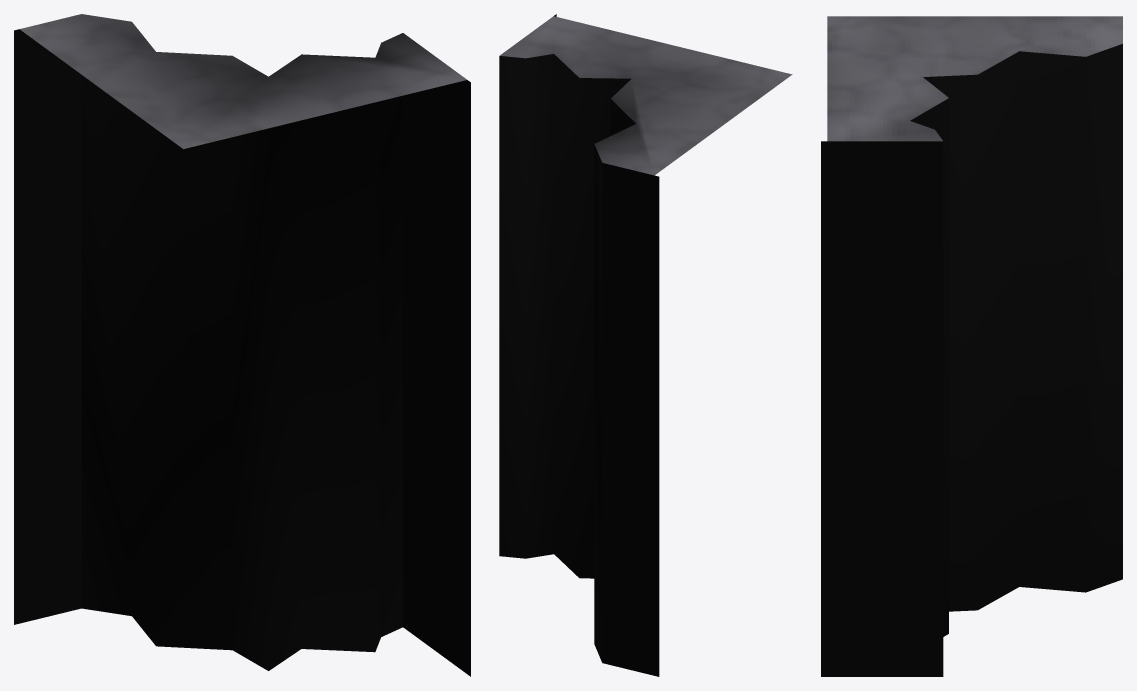
Rendered from hole_7.obj.
3 views of the same model, side by side, from view 1: azimuth 30°, elevation 25°; view 2: azimuth 150°, elevation 25°; view 3: azimuth 270°, elevation 25° (orthographic). The views are drawn at different scales.
Visible parts, largest first — view 1: Cube_Cube.027; view 2: Cube_Cube.027; view 3: Cube_Cube.027.
Boxes of the visible parts, left/top/right/bottom form: Cube_Cube.027: left=14, top=14, right=470, bottom=676; Cube_Cube.027: left=499, top=14, right=792, bottom=676; Cube_Cube.027: left=821, top=16, right=1122, bottom=676.
Bounding box in the file's own units: 4.08 × 8 × 4.09.
2 materials, 1 textured.
